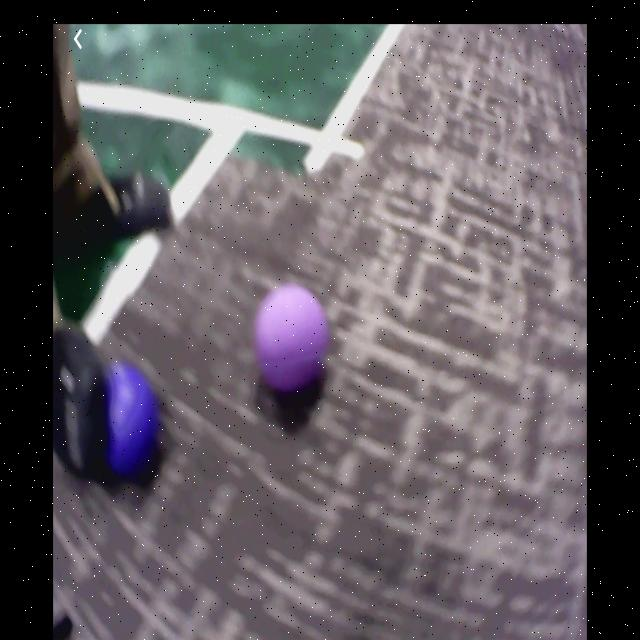ball: (256, 288, 327, 401), (101, 364, 168, 477)
